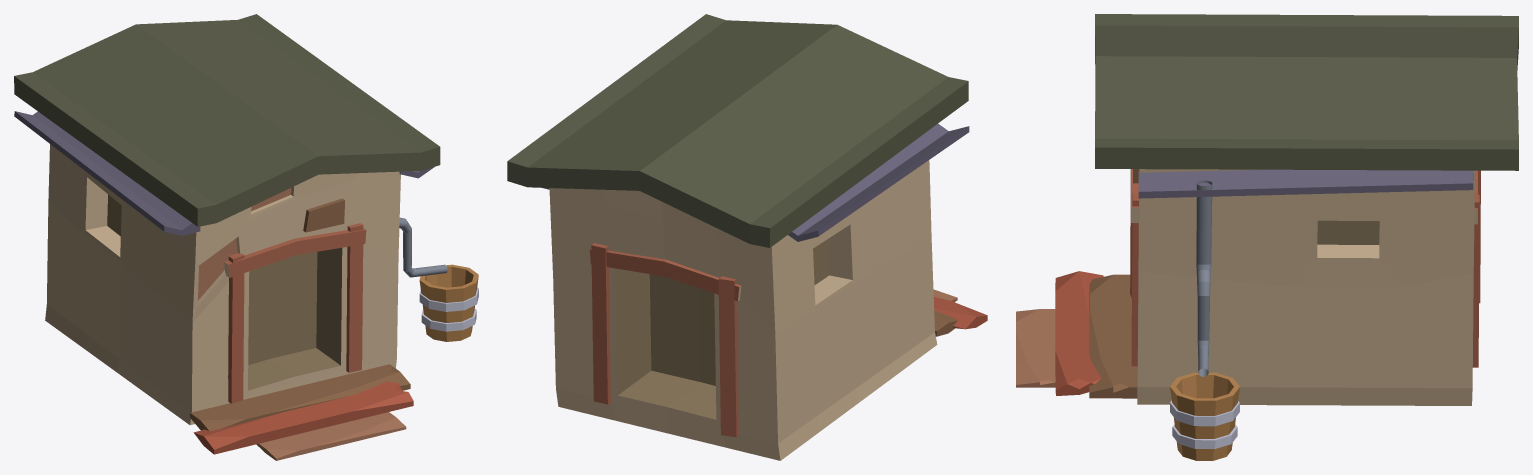
File: _ouse.fbx
3 renders of one model, left to right at view 1: azimuth 30°, elevation 25°; view 2: azimuth 150°, elevation 25°; view 3: azimuth 270°, elevation 25°, orthographic. The views are drawn at different scales.
Parts seen in each view (by area): view 1: house; view 2: house; view 3: house.
Boxes of the visible parts, <box> form: house: <box>14,14,478,460</box>; house: <box>507,14,987,460</box>; house: <box>1016,14,1518,460</box>.
Size of the model in its own units: 660 by 475 by 719.
